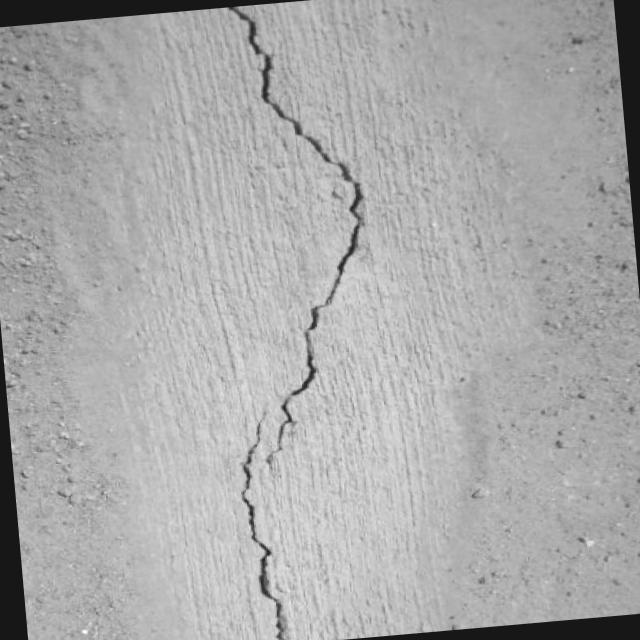crack: (191, 0, 405, 640)
